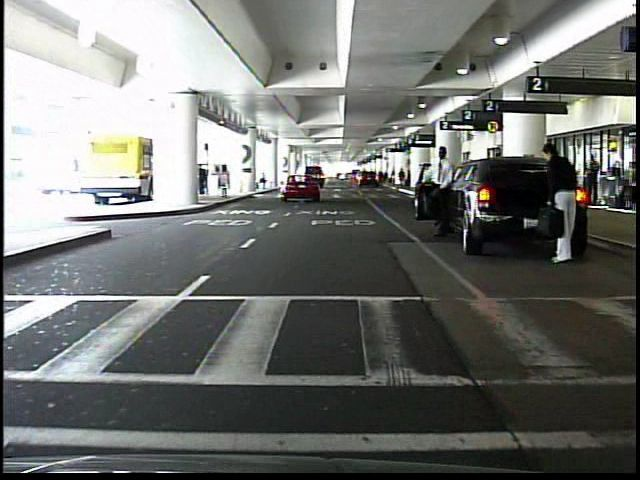person: (536, 140, 582, 264), (424, 146, 455, 246), (584, 154, 598, 206), (196, 160, 210, 196), (398, 166, 408, 189)
